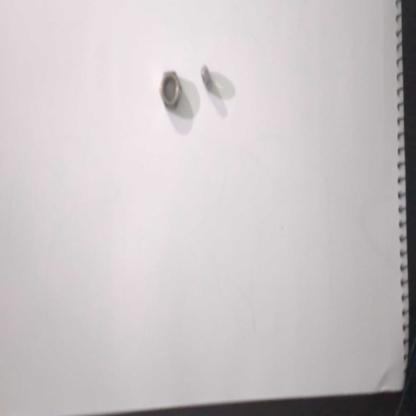NUTS: (157, 63, 183, 119)
